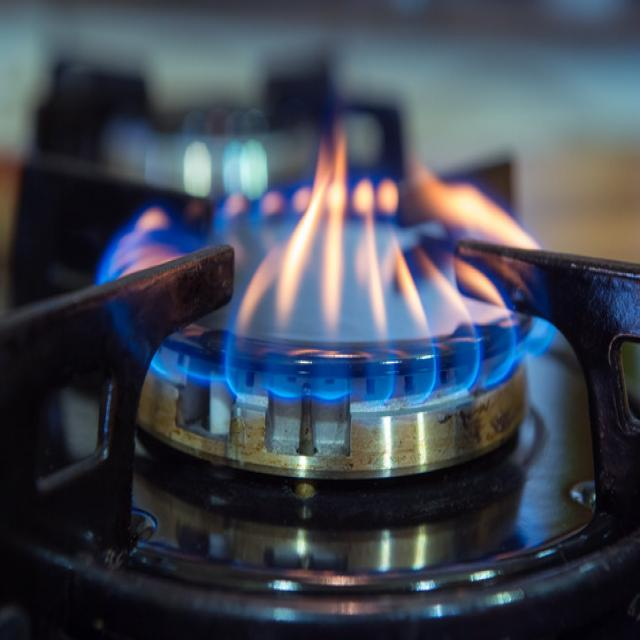fire: (102, 188, 563, 425)
